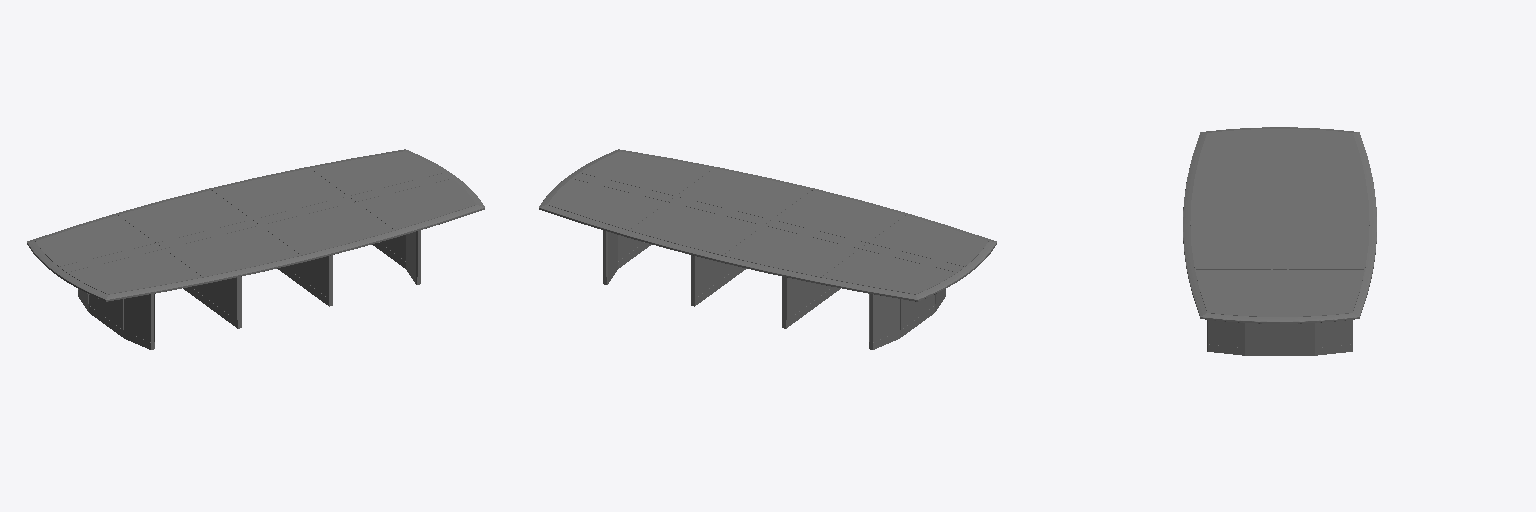
The model's file is desk1.obj.
3 renders of one model, left to right at view 1: azimuth 30°, elevation 25°; view 2: azimuth 150°, elevation 25°; view 3: azimuth 270°, elevation 25°, orthographic.
Visible parts, largest first — view 1: archmodels53_04_07, archmodels53_04_06, archmodels53_04_03, archmodels53_04_04, archmodels53_04_08; view 2: archmodels53_04_07, archmodels53_04_06, archmodels53_04_03, archmodels53_04_04, archmodels53_04_08; view 3: archmodels53_04_07, archmodels53_04_03, archmodels53_04_04, archmodels53_04_08.
Part boxes in pixels (x1,y1,x2,y2): archmodels53_04_07: (27, 149, 484, 301); archmodels53_04_06: (78, 277, 241, 349); archmodels53_04_03: (277, 230, 420, 306); archmodels53_04_04: (157, 197, 353, 248); archmodels53_04_08: (61, 169, 450, 276); archmodels53_04_07: (539, 149, 996, 301); archmodels53_04_06: (782, 277, 945, 349); archmodels53_04_03: (603, 230, 746, 306); archmodels53_04_04: (670, 197, 866, 248); archmodels53_04_08: (573, 169, 962, 276); archmodels53_04_07: (1183, 127, 1376, 323); archmodels53_04_03: (1207, 320, 1352, 355); archmodels53_04_04: (1273, 176, 1286, 268); archmodels53_04_08: (1271, 129, 1288, 315).
Size of the model in its own units: 4750 by 754 by 2007.